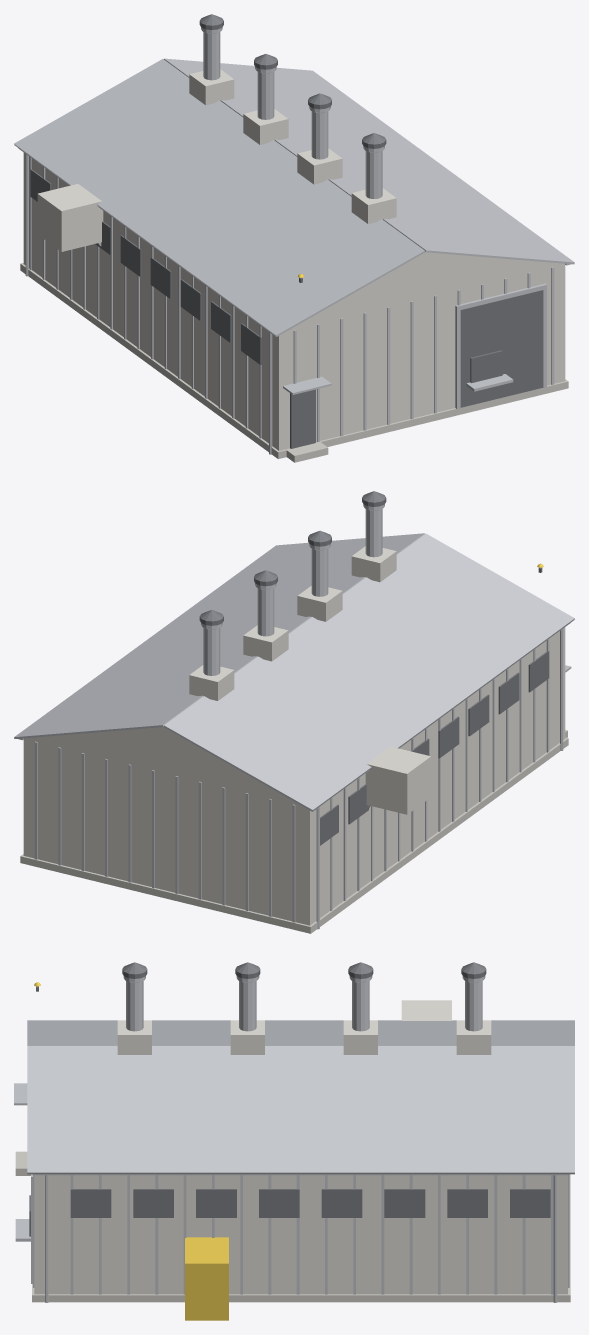
Rendered from ore-processing-and-haulage-plant-assay-laboratory-bf7f5188.glb.
3 views of the same model, one above another, from view 1: azimuth 30°, elevation 25°; view 2: azimuth 150°, elevation 25°; view 3: azimuth 270°, elevation 25° (orthographic). The views are drawn at different scales.
Parts seen in each view (by area): view 1: assay-laboratory; view 2: assay-laboratory; view 3: assay-laboratory.
Part boxes in pixels (x1=…): assay-laboratory: x1=14, y1=14, x2=574, y2=462; assay-laboratory: x1=14, y1=491, x2=574, y2=933; assay-laboratory: x1=14, y1=962, x2=574, y2=1320.
Size of the model in its own units: 14.6 by 9.35 by 17.87.
